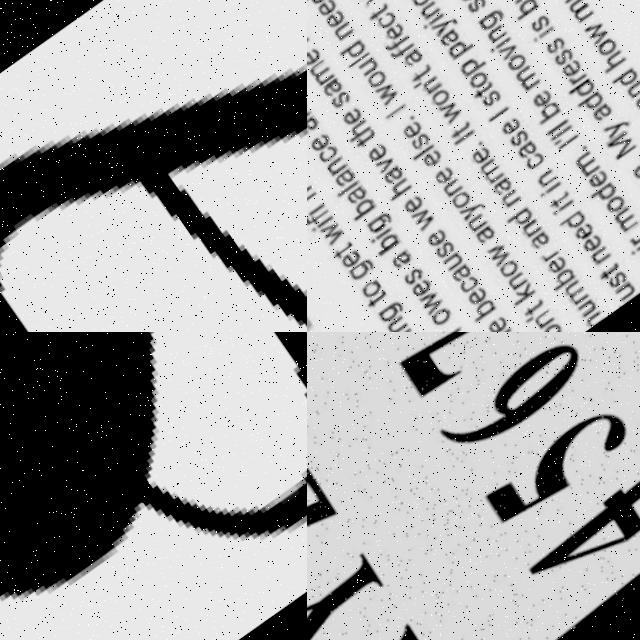4: (496, 453, 640, 625)
5: (453, 385, 640, 564)
6: (403, 332, 625, 499)
7: (360, 332, 585, 438)
8: (0, 332, 307, 640)
A: (0, 0, 307, 332)
